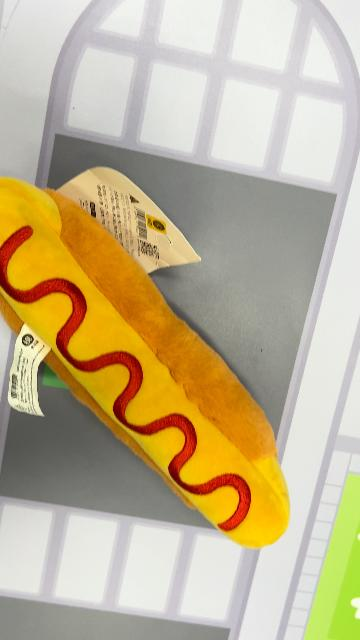hotdog: (2, 175, 292, 550)
